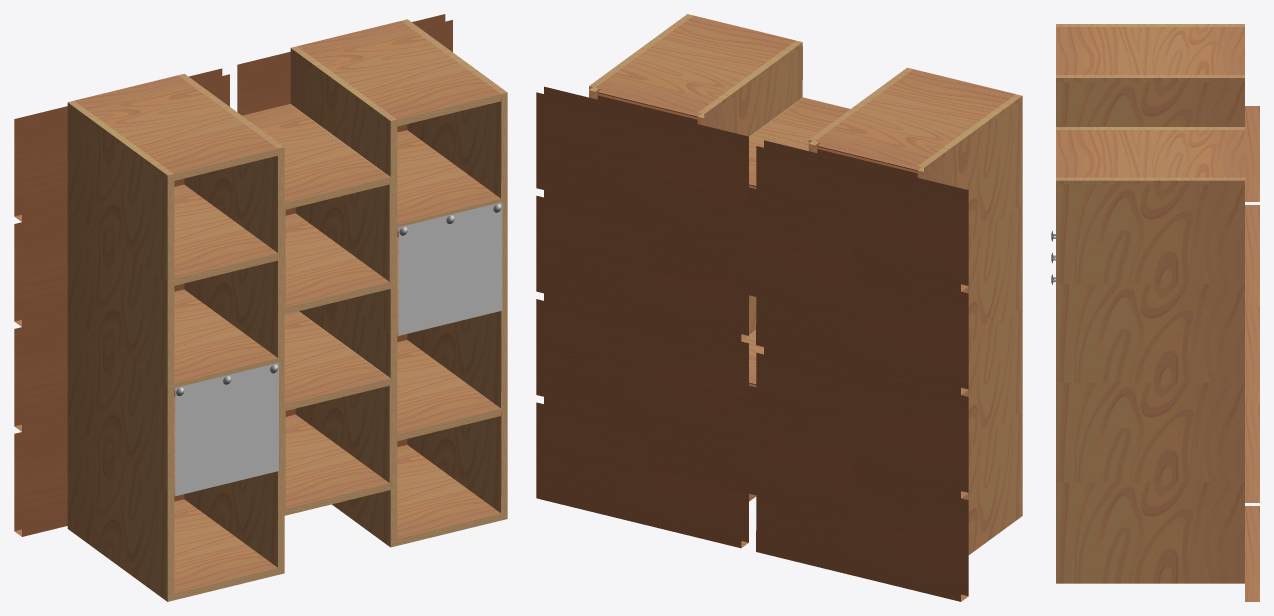
File: layout_poster_a_shape_10c.fbx
The picture shows the model from 3 angles, left to right: view 1: azimuth 30°, elevation 25°; view 2: azimuth 150°, elevation 25°; view 3: azimuth 270°, elevation 25°; orthographic projection. The views are drawn at different scales.
Visible parts, largest first — view 1: Mesh-Poster-Small01 1, Mesh-Poster-Small01, Shelf-TM-00 2, Shelf-TM-00 9, Shelf-CL-01 7, Shelf-CL-01 4, Shelf-CL-01 8, Shelf-CL-01 9, Shelf-TM-00 6, Shelf-Back-00 (1) 9, Shelf-TM-00 3, Shelf-BM-00 3 (+30 smaller); view 2: Shelf-Back-00 (1) 7, Shelf-Back-00 (1) 2, Shelf-Back-00 (1) 8, Shelf-Back-00 (1), Shelf-Back-00 (1) 3, Shelf-Back-00 (1) 9, Shelf-Back-00 (1) 6, Shelf-Back-00 (1) 4, Shelf-Back-00 (1) 5, Shelf-Back-00 (1) 1, Shelf-TM-00 2, Shelf-TM-00 9 (+12 smaller); view 3: Shelf-CR-01 1, Shelf-CR-01 2, Shelf-CR-01, Shelf-CR-01 5, Shelf-TM-00 2, Shelf-TM-00 9, Shelf-CR-01 9, Shelf-CR-00 (1) 2, Shelf-Back-00 (1) 2, Shelf-Back-00 (1), Shelf-Back-00 (1) 1, Shelf-Back-00 (1) 5 (+10 smaller).
Boxes of the visible parts, x1,y1,x2,y2 form: Mesh-Poster-Small01 1: [398, 202, 502, 335]; Mesh-Poster-Small01: [175, 362, 278, 496]; Shelf-TM-00 2: [297, 21, 500, 126]; Shelf-TM-00 9: [74, 75, 277, 180]; Shelf-CL-01 7: [67, 316, 174, 489]; Shelf-CL-01 4: [67, 421, 174, 594]; Shelf-CL-01 8: [67, 211, 174, 384]; Shelf-CL-01 9: [67, 107, 174, 279]; Shelf-TM-00 6: [242, 104, 389, 209]; Shelf-Back-00 (1) 9: [14, 68, 229, 222]; Shelf-TM-00 3: [284, 311, 389, 410]; Shelf-BM-00 3: [285, 414, 389, 515]; Shelf-Back-00 (1) 7: [756, 347, 968, 498]; Shelf-Back-00 (1) 2: [536, 86, 748, 237]; Shelf-Back-00 (1) 8: [756, 250, 968, 394]; Shelf-Back-00 (1): [536, 293, 748, 443]; Shelf-Back-00 (1) 3: [646, 373, 858, 518]; Shelf-Back-00 (1) 9: [756, 140, 968, 291]; Shelf-Back-00 (1) 6: [646, 174, 858, 319]; Shelf-Back-00 (1) 4: [756, 468, 968, 601]; Shelf-Back-00 (1) 5: [536, 397, 748, 548]; Shelf-Back-00 (1) 1: [536, 190, 748, 341]; Shelf-TM-00 2: [595, 15, 795, 119]; Shelf-TM-00 9: [815, 69, 1015, 173]; Shelf-CR-01 1: [1056, 283, 1244, 378]; Shelf-CR-01 2: [1056, 184, 1244, 279]; Shelf-CR-01: [1056, 383, 1244, 477]; Shelf-CR-01 5: [1056, 482, 1244, 576]; Shelf-TM-00 2: [1056, 130, 1244, 177]; Shelf-TM-00 9: [1056, 27, 1244, 74]; Shelf-CR-01 9: [1056, 82, 1244, 126]; Shelf-CR-00 (1) 2: [1056, 177, 1244, 184]; Shelf-Back-00 (1) 2: [1245, 208, 1259, 304]; Shelf-Back-00 (1): [1245, 407, 1259, 502]; Shelf-Back-00 (1) 1: [1245, 308, 1259, 403]; Shelf-Back-00 (1) 5: [1245, 506, 1259, 601].
Bounding box in the file's own units: 199 × 188 × 88.31.
